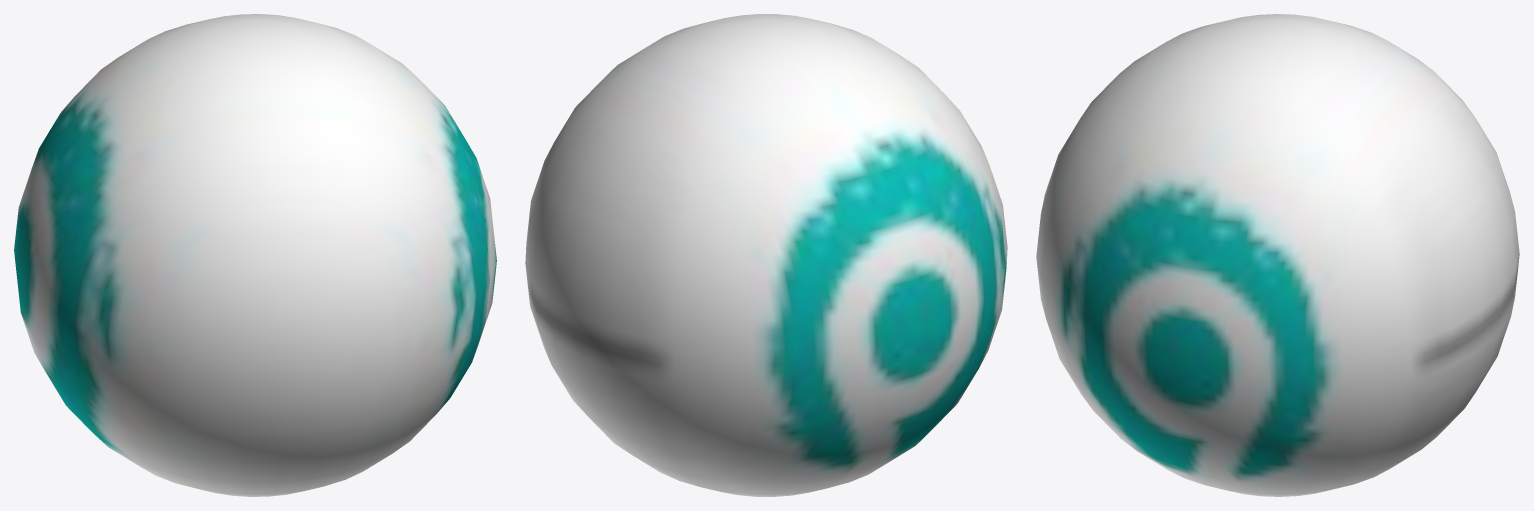
Rendered from media_buying.glb.
3 renders of one model, left to right at view 1: azimuth 30°, elevation 25°; view 2: azimuth 150°, elevation 25°; view 3: azimuth 270°, elevation 25°, orthographic.
Visible parts, largest first — view 1: Media Buying; view 2: Media Buying; view 3: Media Buying.
Part boxes in pixels (<box>): Media Buying: <box>14,14,496,496</box>; Media Buying: <box>525,14,1007,496</box>; Media Buying: <box>1036,14,1519,496</box>.
Bounding box in the file's own units: 5.65 × 5.65 × 5.65.
1 material, 1 textured.
